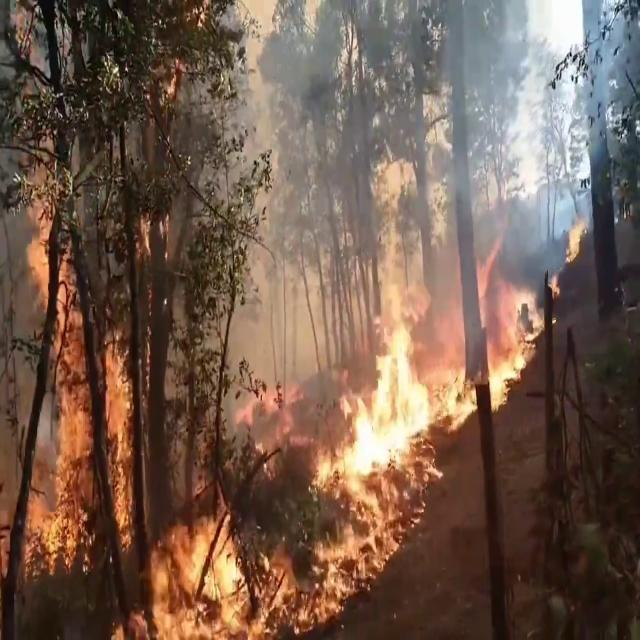Fire: (1, 194, 155, 586), (316, 302, 470, 504), (117, 496, 304, 638), (294, 488, 396, 632), (480, 274, 546, 412), (564, 208, 588, 266)
Smoke: (235, 0, 592, 346)
